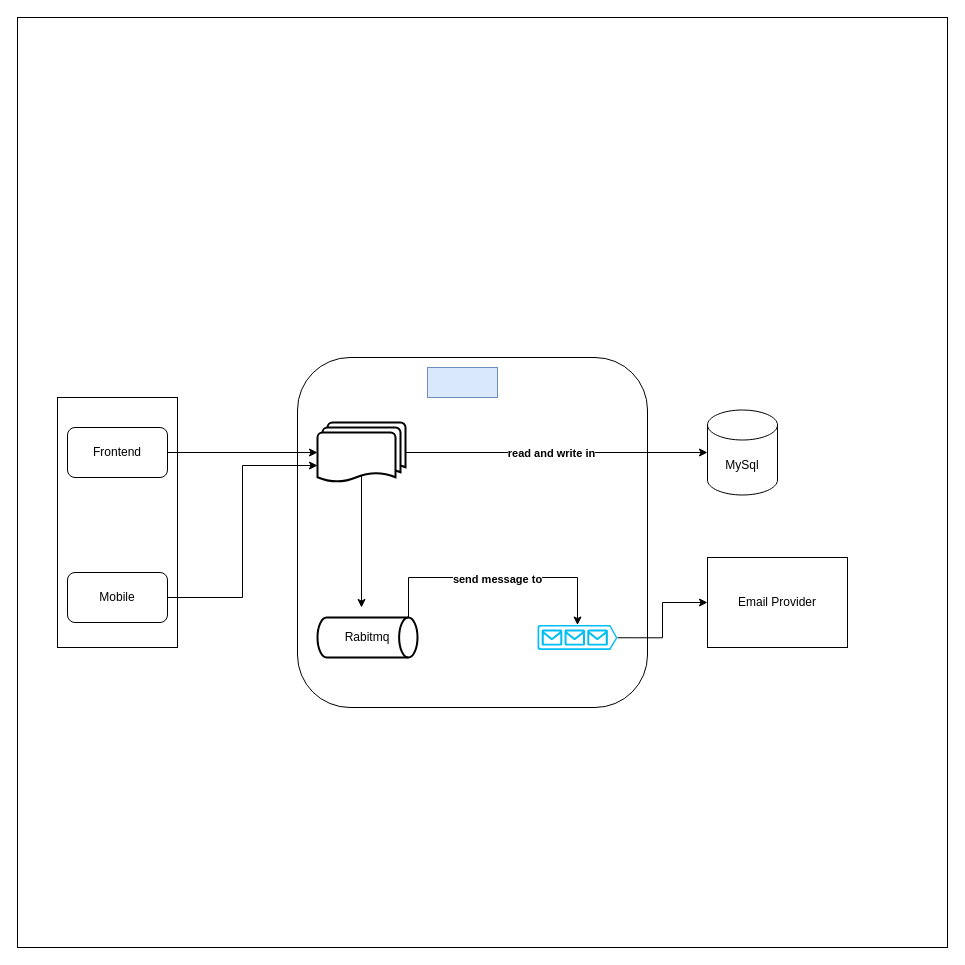
The diagram is 965 pixels wide and 965 high, and some of its shapes have lost their labels. The centre of each missing label's shape, as x and y in pixels:
API: pixel 361 452
Docker: pixel 462 382
